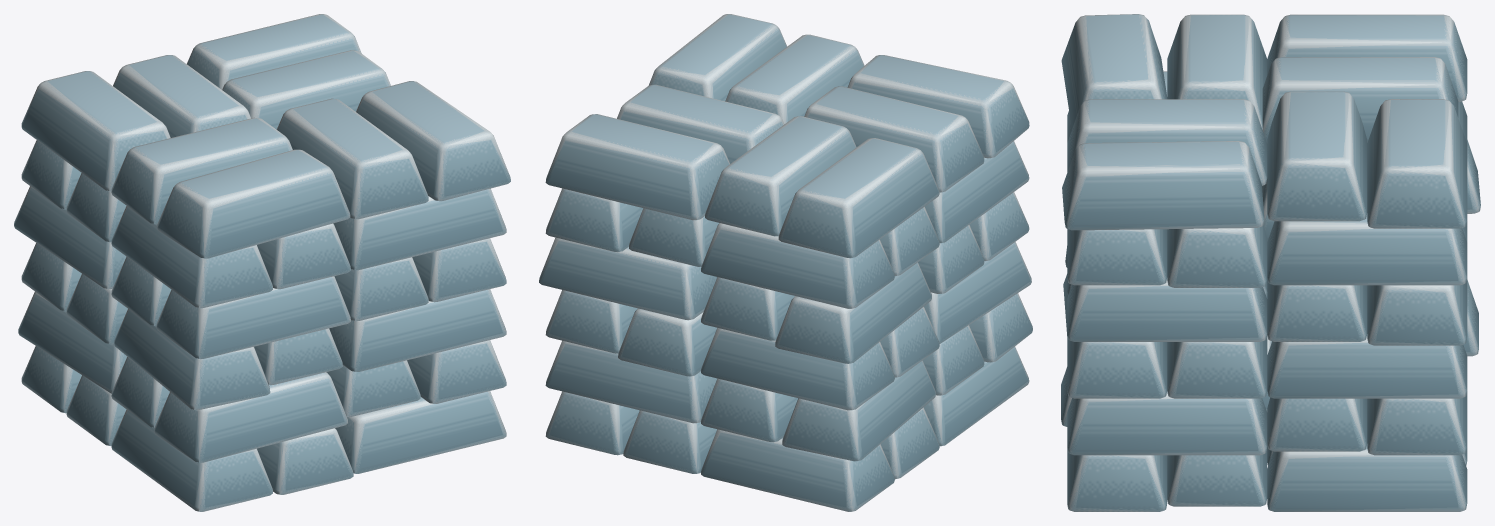
File: silver-bars-stack-large.glb
3 views of the same model, side by side, from view 1: azimuth 30°, elevation 25°; view 2: azimuth 150°, elevation 25°; view 3: azimuth 270°, elevation 25° (orthographic). The views are drawn at different scales.
Parts seen in each view (by area): view 1: Silver_Bars_Stack_Large; view 2: Silver_Bars_Stack_Large; view 3: Silver_Bars_Stack_Large.
Boxes of the visible parts, x1,y1,x2,y2 form: Silver_Bars_Stack_Large: (14,14,510,511); Silver_Bars_Stack_Large: (539,14,1032,511); Silver_Bars_Stack_Large: (1061,14,1480,511).
Bounding box in the file's own units: 1.66 × 1.5 × 1.68.
Materials: 1 (1 with a texture image).
